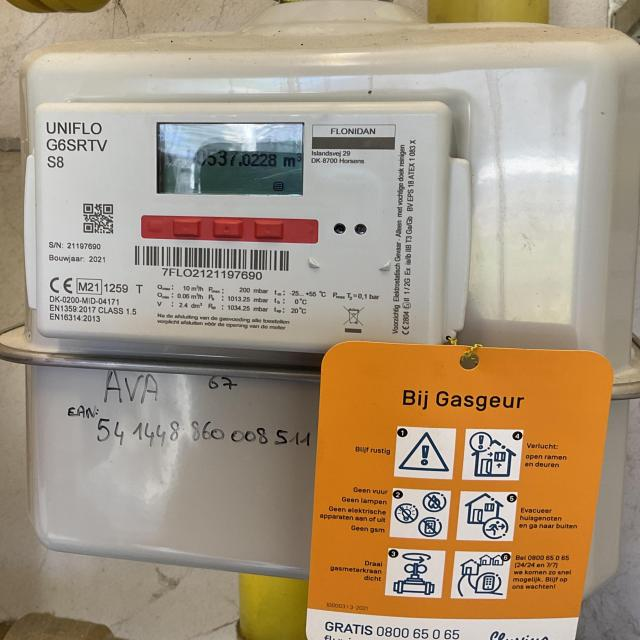gaz_meter: (155, 119, 306, 198)
indication: (160, 145, 302, 171)
